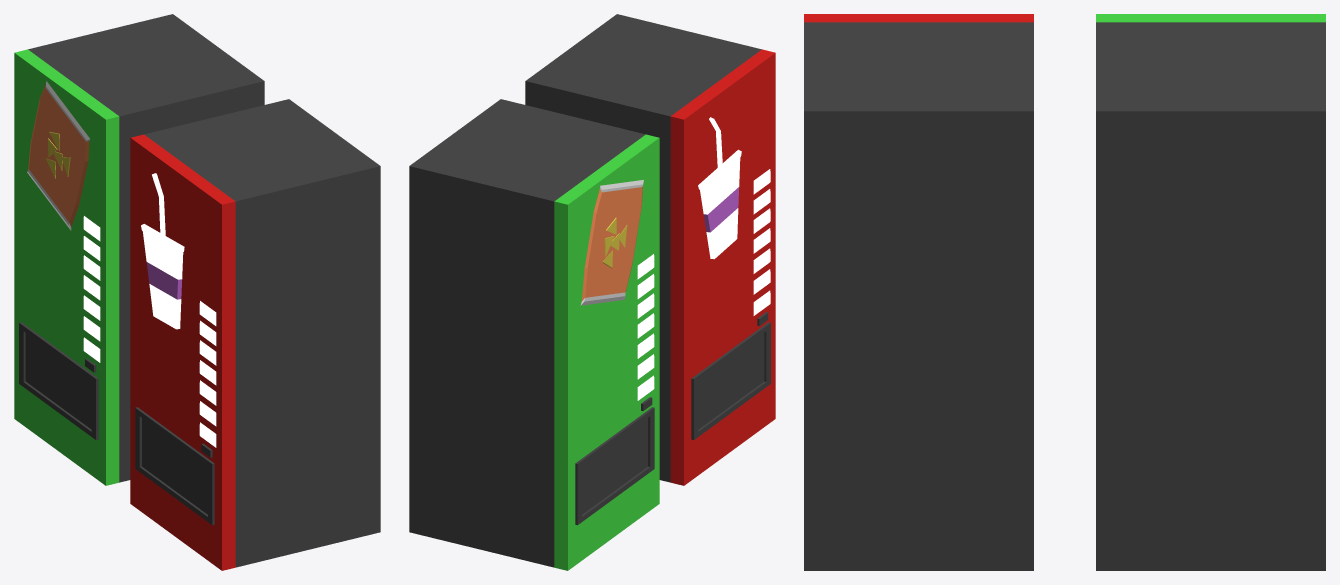
3 views of the same model, side by side, from view 1: azimuth 30°, elevation 25°; view 2: azimuth 150°, elevation 25°; view 3: azimuth 270°, elevation 25° (orthographic). The views are drawn at different scales.
Visible parts, largest first — view 1: Drink Vending Machine, Food Vending Machine; view 2: Food Vending Machine, Drink Vending Machine; view 3: Food Vending Machine, Drink Vending Machine.
Boxes of the visible parts, left/top/right/bottom form: Drink Vending Machine: left=130, top=99, right=380, bottom=570; Food Vending Machine: left=14, top=14, right=264, bottom=485; Food Vending Machine: left=409, top=99, right=659, bottom=570; Drink Vending Machine: left=525, top=14, right=775, bottom=485; Food Vending Machine: left=1096, top=14, right=1325, bottom=570; Drink Vending Machine: left=804, top=14, right=1033, bottom=570.
Bounding box in the file's own units: 12.02 × 25.89 × 26.62.
